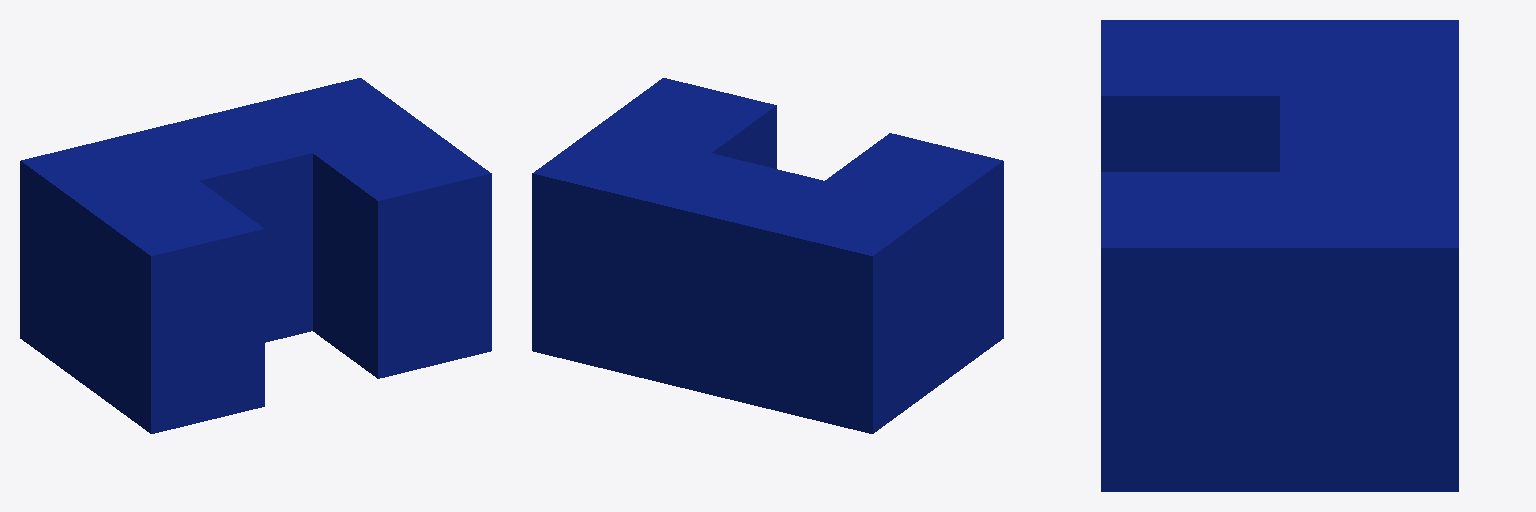
robot.urdf — block:
<robot name="block">
  <link name="block_base_link">
    <inertial>
      <origin rpy="0 0 0" xyz="0.05 0.062 0.015"/>
      <mass value="0.05"/>
      <inertia ixx="1.226e-05" ixy="0.0" ixz="0.0" iyy="2.57e-05" iyz="0.0" izz="2.896e-05"/>
    </inertial>
    <collision>
      
      <geometry>
        <mesh filename="4.STL" scale="1 1 1"/>
      </geometry>
    </collision>
    <visual>
 
      <geometry>
        <mesh filename="4.STL" scale="1 1 1"/>
      </geometry>
      <material name="tray_material">
        <color rgba="0.1 0.2 0.6 1"/>
      </material>
    </visual>
  </link>
</robot>

--- Render facts (derived) ---
3 views of the same robot in one strip: view 1: azimuth 30°, elevation 25°; view 2: azimuth 150°, elevation 25°; view 3: azimuth 270°, elevation 25° (orthographic).
Robot: block — 1 links, 0 joints (none); root link block_base_link; default pose: every joint at zero.
Visible links, largest first — view 1: block_base_link; view 2: block_base_link; view 3: block_base_link.
Link boxes in pixels (x1,y1,x2,y2): block_base_link: [20, 78, 491, 433]; block_base_link: [532, 78, 1003, 433]; block_base_link: [1101, 20, 1458, 491].
Bounding box of the posed robot: 0.06 × 0.04 × 0.03 m (x, y, z).
1 mesh visuals loaded from 1 distinct referenced files (1 binary STL).